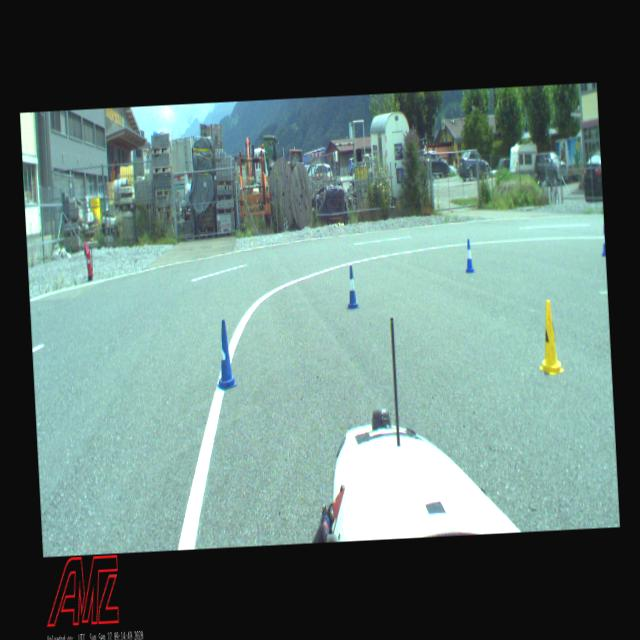blue_cone: (214, 319, 236, 391), (344, 265, 360, 309), (464, 239, 474, 273), (601, 226, 606, 256)
yellow_cone: (536, 299, 564, 375)
